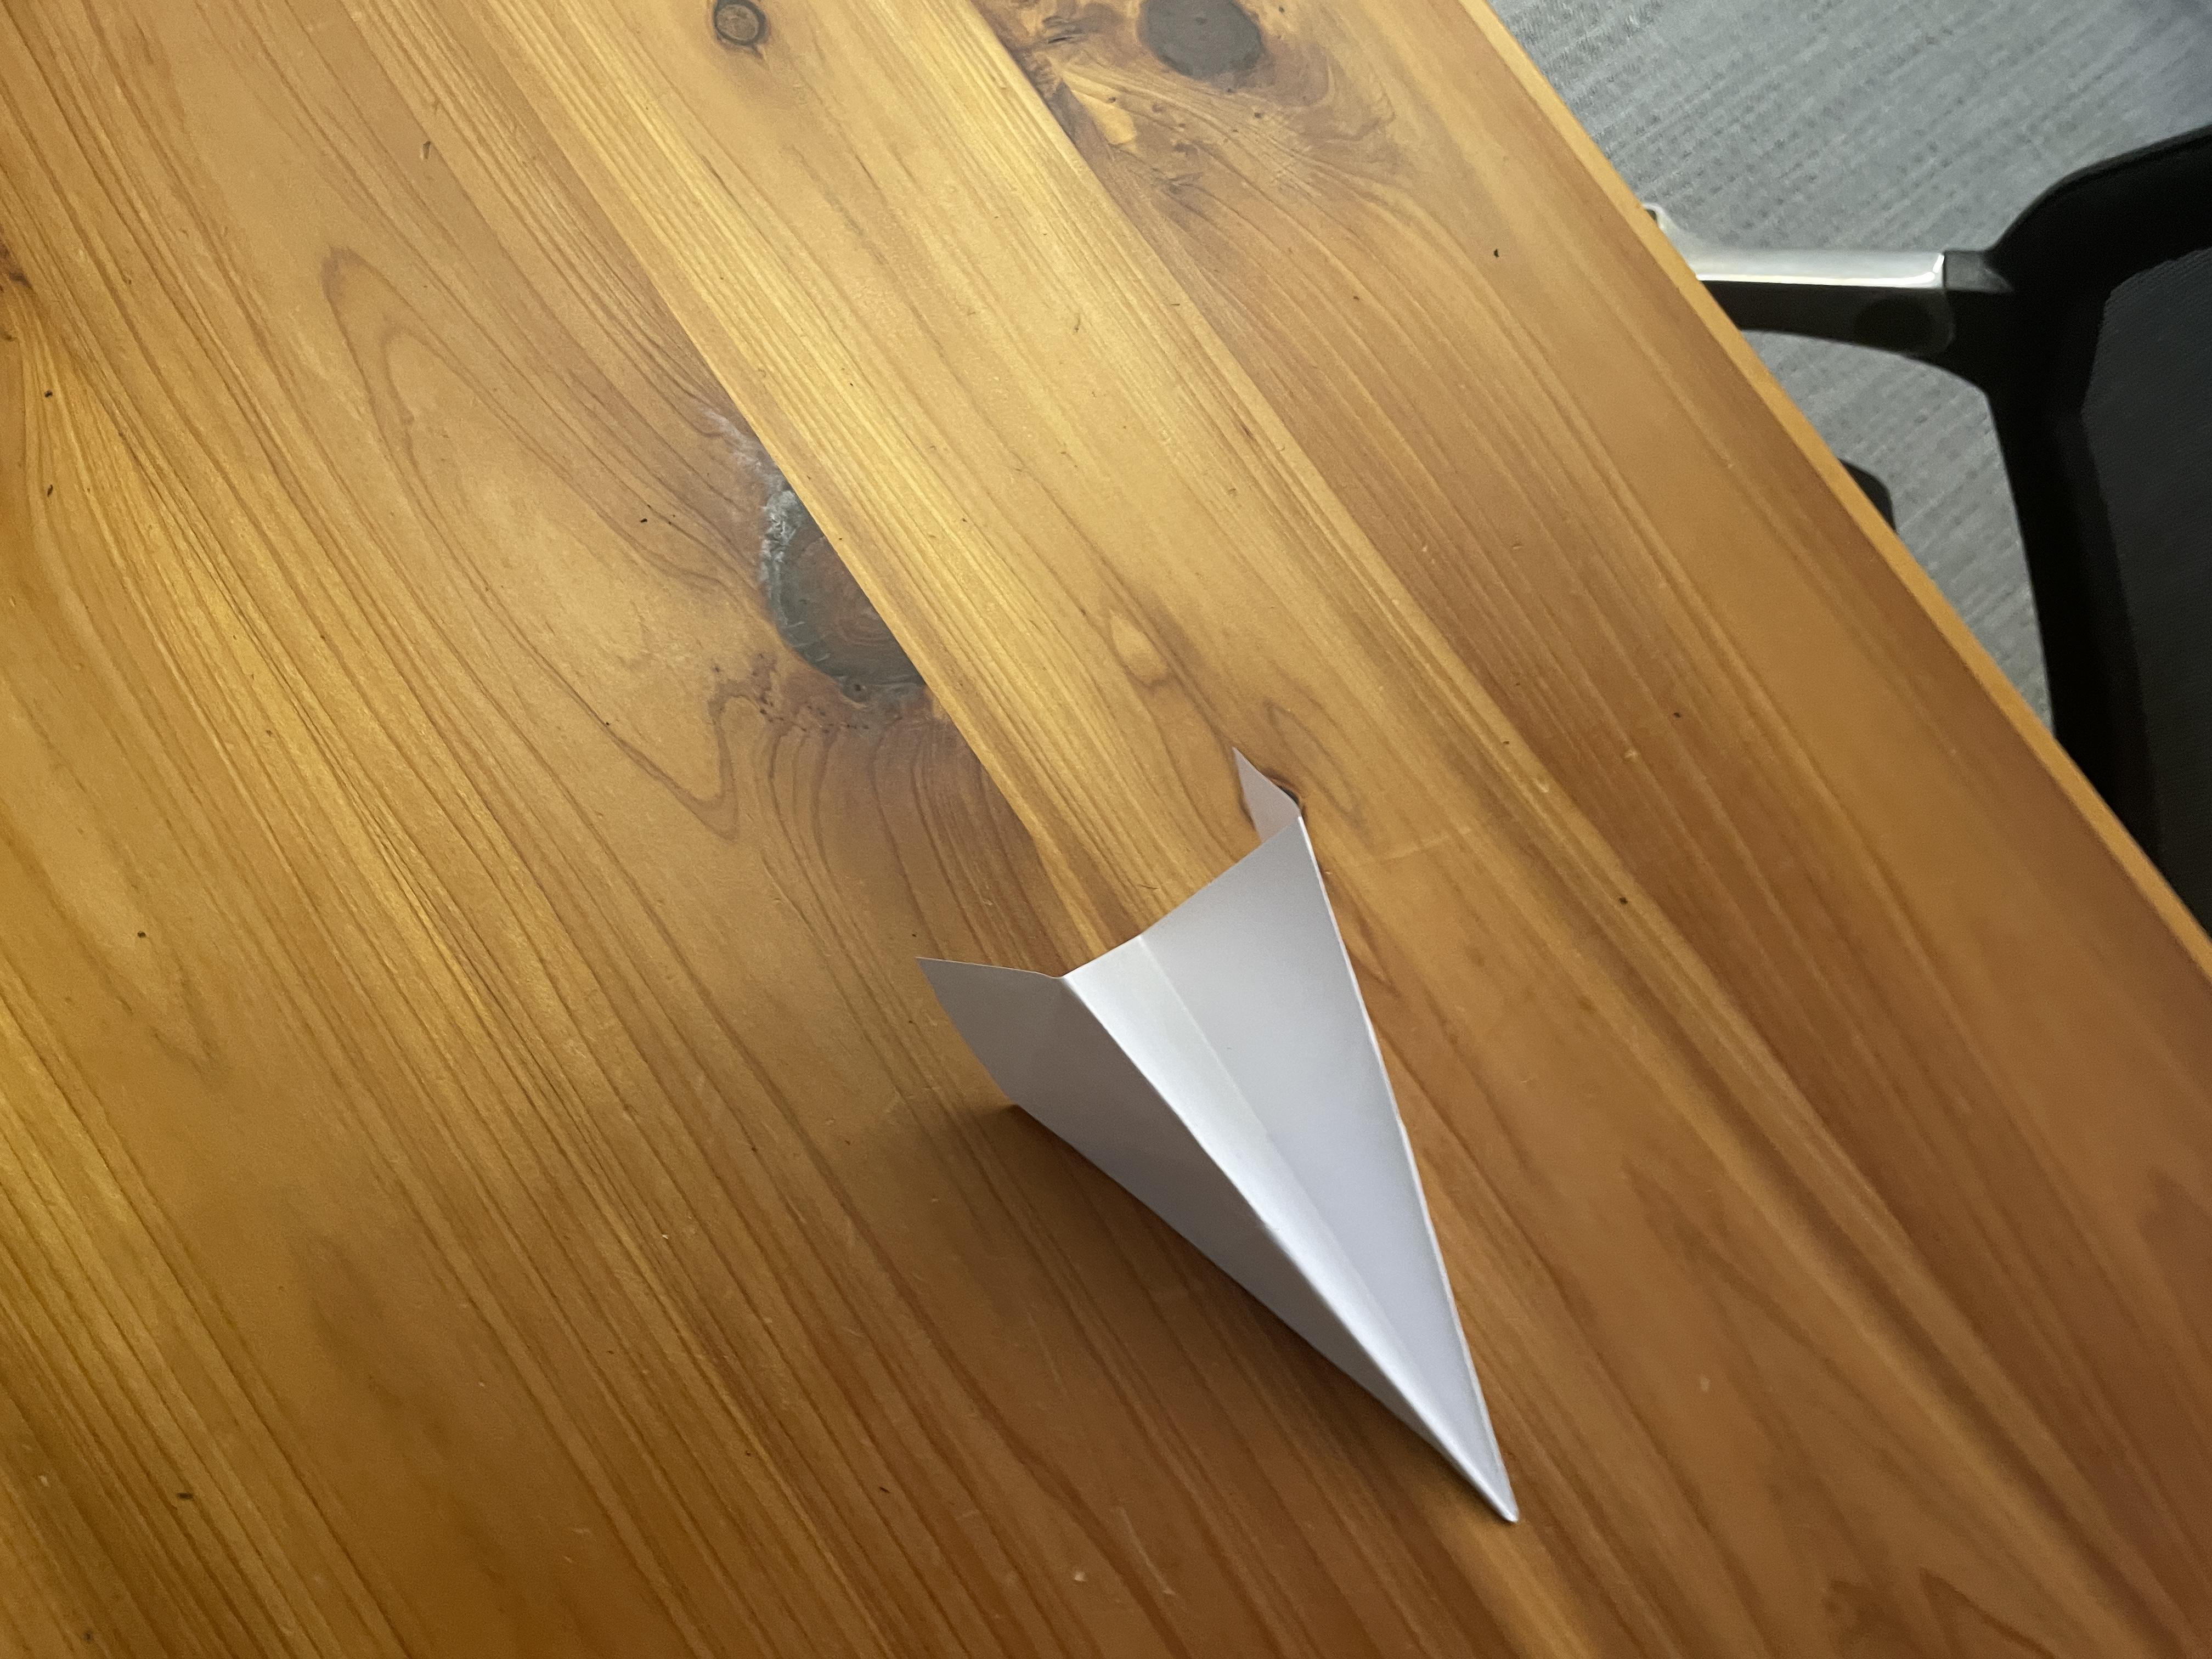shape_3: (822, 648, 1613, 1645)
